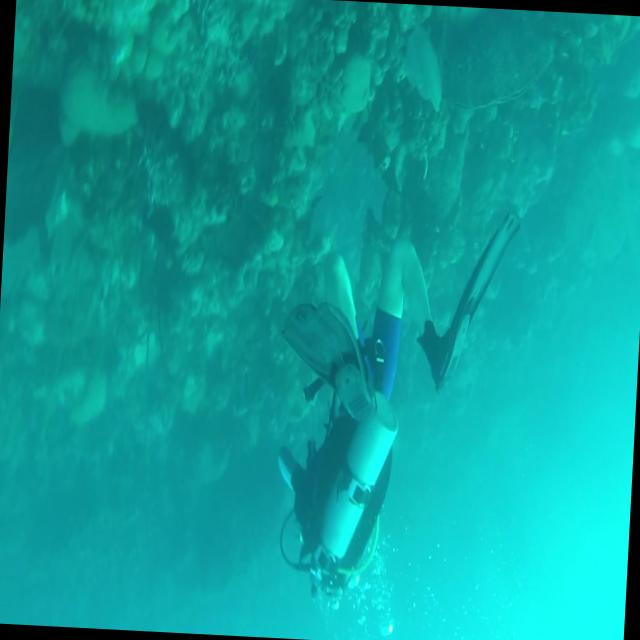human: (267, 199, 522, 622)
